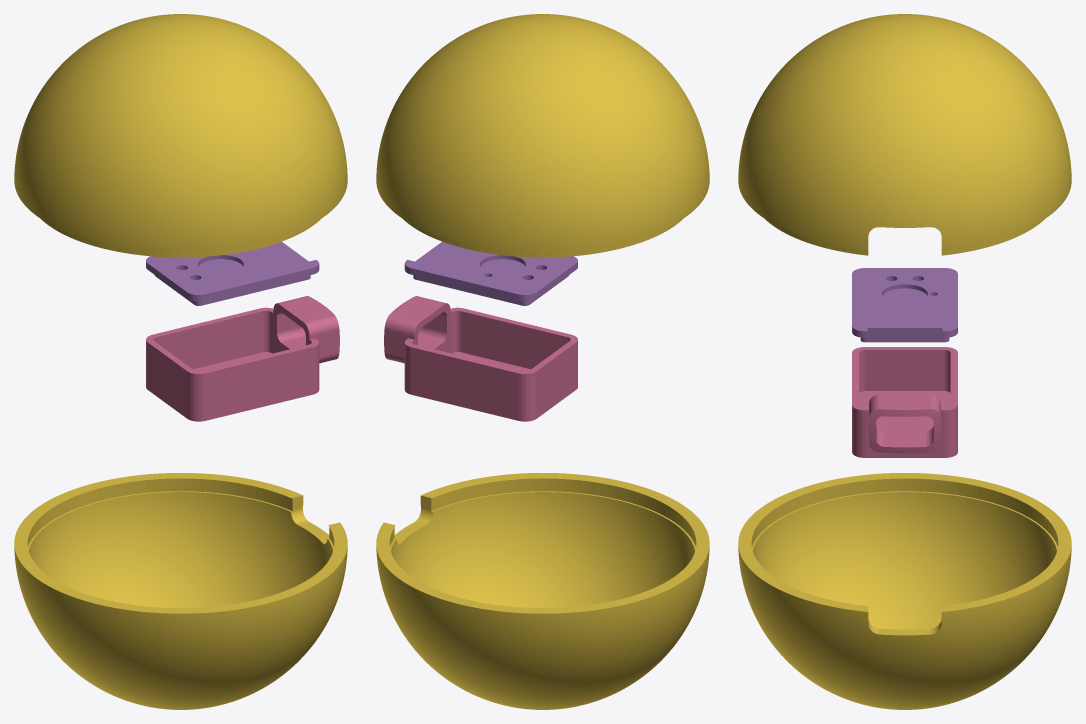
The model's file is preview.glb.
3 renders of one model, left to right at view 1: azimuth 30°, elevation 25°; view 2: azimuth 150°, elevation 25°; view 3: azimuth 270°, elevation 25°, orthographic.
Parts seen in each view (by area): view 1: shell_top, shell_bottom, pod_tray, pod_lid; view 2: shell_top, shell_bottom, pod_tray, pod_lid; view 3: shell_bottom, shell_top, pod_tray, pod_lid.
Boxes of the visible parts, x1=… form: shell_top: x1=14, y1=14, x2=347, y2=257; shell_bottom: x1=14, y1=473, x2=347, y2=709; pod_tray: x1=146, y1=296, x2=339, y2=421; pod_lid: x1=146, y1=241, x2=319, y2=305; shell_top: x1=376, y1=14, x2=709, y2=257; shell_bottom: x1=376, y1=473, x2=709, y2=709; pod_tray: x1=384, y1=296, x2=577, y2=421; pod_lid: x1=404, y1=241, x2=577, y2=305; shell_bottom: x1=738, y1=473, x2=1071, y2=709; shell_top: x1=738, y1=14, x2=1071, y2=255; pod_tray: x1=852, y1=347, x2=957, y2=457; pod_lid: x1=852, y1=268, x2=957, y2=342.
Bounding box in the file's own units: 0.0748 × 0.165 × 0.075.
